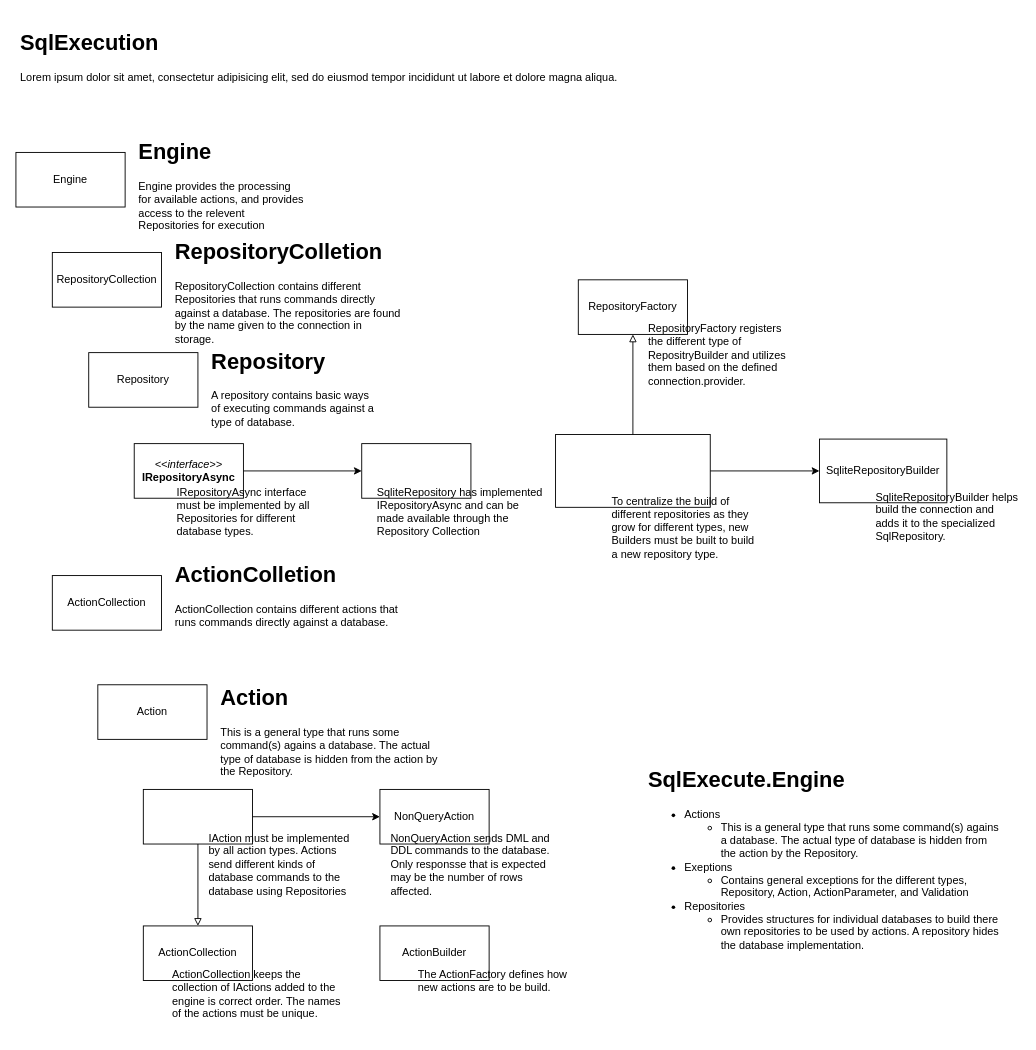
Some shapes in this 1036 by 1050 pixel diagram are drawn without their labels. Each missing label, with the box of its shape:
<<interface>> IAction: (142, 789, 253, 844)
<<interface>> IRepositoryBuilderStrategy: (555, 434, 710, 507)
SqliteRepository: (361, 443, 471, 498)
